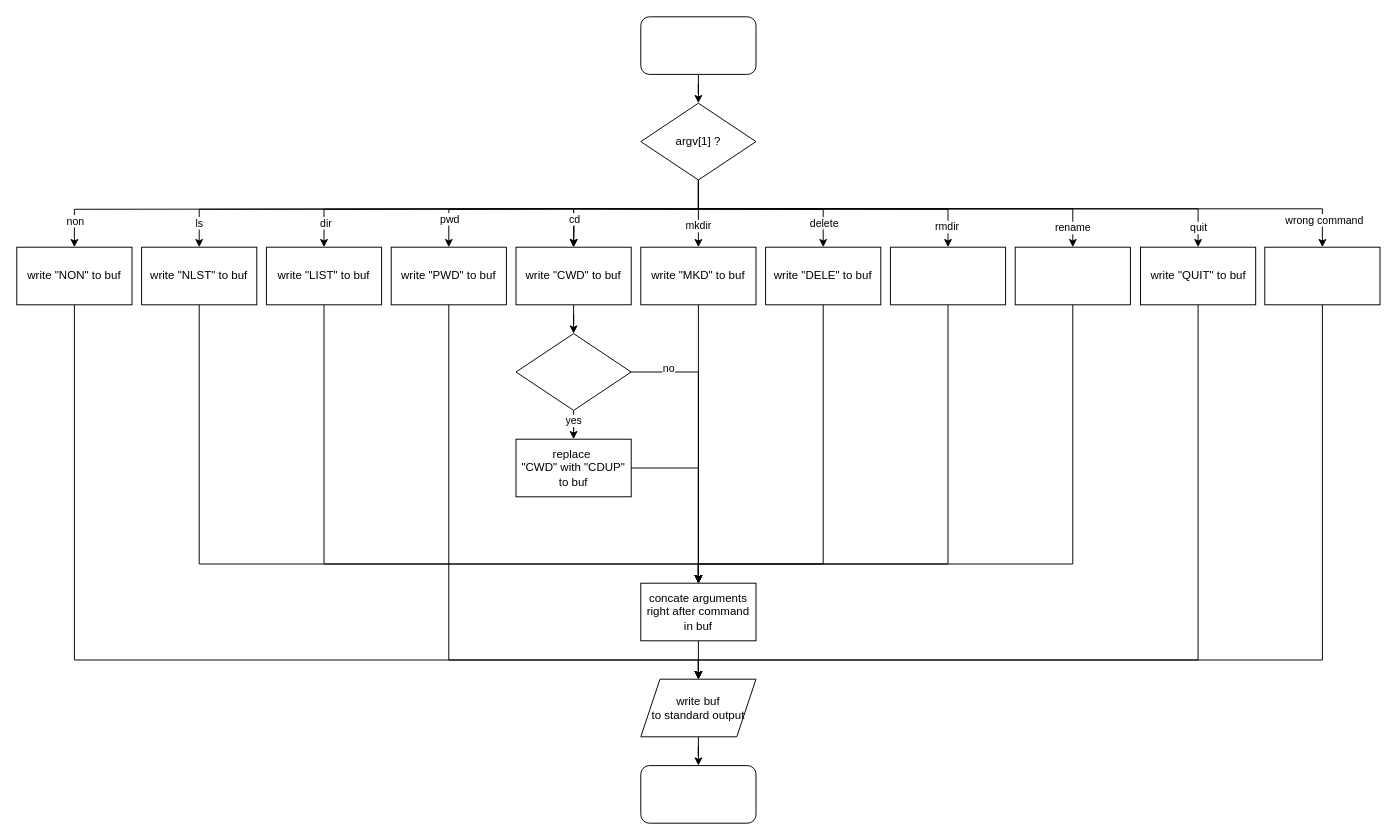
Some shapes in this 1397 by 840 pixel diagram are drawn without their labels. Each missing label, with the box of its shape:
.. in argv[]?: (515, 333, 631, 410)
end: (640, 765, 756, 823)
start: (640, 16, 756, 74)
write "RMD" to buf: (889, 246, 1006, 305)
write "RNFR" & "RNTO" to buf: (1014, 246, 1130, 305)
write "WRONG" to buf: (1264, 246, 1380, 305)
